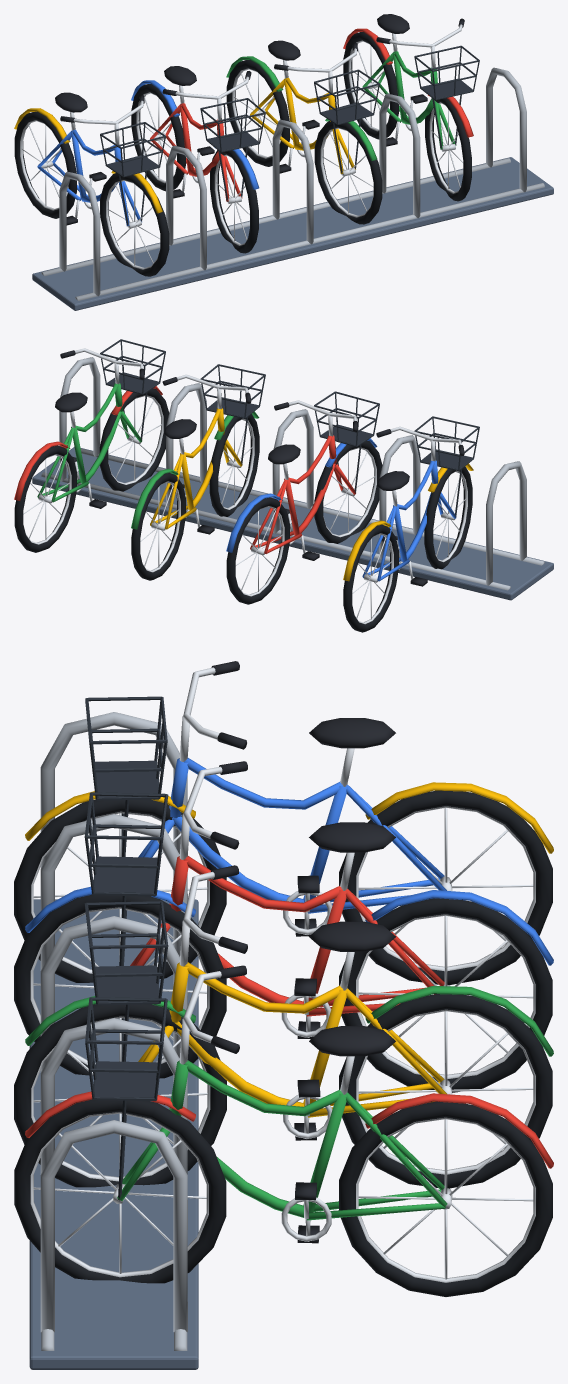
The model's file is prop_gbike_rack.glb.
The picture shows the model from 3 angles, top to bottom: view 1: azimuth 30°, elevation 25°; view 2: azimuth 150°, elevation 25°; view 3: azimuth 270°, elevation 25°; orthographic projection. The views are drawn at different scales.
Parts seen in each view (by area): view 1: GBike_RackCurb, GBike_RackHoops, GBike_Tires, GBike_ChromeParts, GBike_FrontBaskets, GBike_SaddlesGrips, GBike_FrameYellow, GBike_FrameGreen, GBike_FrameBlue, GBike_FrameRed; view 2: GBike_Tires, GBike_RackCurb, GBike_RackHoops, GBike_ChromeParts, GBike_FrontBaskets, GBike_SaddlesGrips, GBike_FrameGreen, GBike_FrameRed, GBike_FrameBlue, GBike_FrameYellow; view 3: GBike_Tires, GBike_RackCurb, GBike_ChromeParts, GBike_RackHoops, GBike_FrontBaskets, GBike_SaddlesGrips, GBike_FrameGreen, GBike_FrameBlue, GBike_FrameYellow, GBike_FrameRed.
Part boxes in pixels (x1,y1,x2,y2): GBike_RackCurb: (32, 157, 553, 310); GBike_RackHoops: (41, 67, 544, 300); GBike_Tires: (14, 32, 471, 276); GBike_ChromeParts: (20, 24, 463, 269); GBike_FrontBaskets: (100, 45, 479, 226); GBike_SaddlesGrips: (55, 14, 464, 225); GBike_FrameYellow: (14, 77, 355, 213); GBike_FrameGreen: (226, 51, 456, 160); GBike_FrameBlue: (37, 80, 259, 226); GBike_FrameRed: (150, 28, 473, 201); GBike_Tires: (14, 388, 472, 632); GBike_RackCurb: (32, 447, 553, 600); GBike_RackHoops: (41, 357, 544, 590); GBike_ChromeParts: (23, 348, 467, 624); GBike_FrontBaskets: (100, 339, 479, 516); GBike_SaddlesGrips: (55, 350, 464, 586); GBike_FrameGreen: (37, 383, 259, 529); GBike_FrameRed: (14, 386, 355, 553); GBike_FrameBlue: (226, 438, 456, 581); GBike_FrameYellow: (150, 408, 473, 581); GBike_Tires: (14, 790, 552, 1296); GBike_RackCurb: (29, 899, 198, 1369); GBike_ChromeParts: (30, 667, 535, 1282); GBike_RackHoops: (40, 712, 187, 1350); GBike_FrontBaskets: (84, 696, 168, 1200); GBike_SaddlesGrips: (210, 661, 395, 1243); GBike_FrameGreen: (25, 986, 553, 1220); GBike_FrameBlue: (25, 757, 553, 965); GBike_FrameYellow: (25, 782, 553, 1117); GBike_FrameRed: (25, 855, 553, 1168).
Size of the model in its own units: 3.6 by 1.06 by 1.79.
